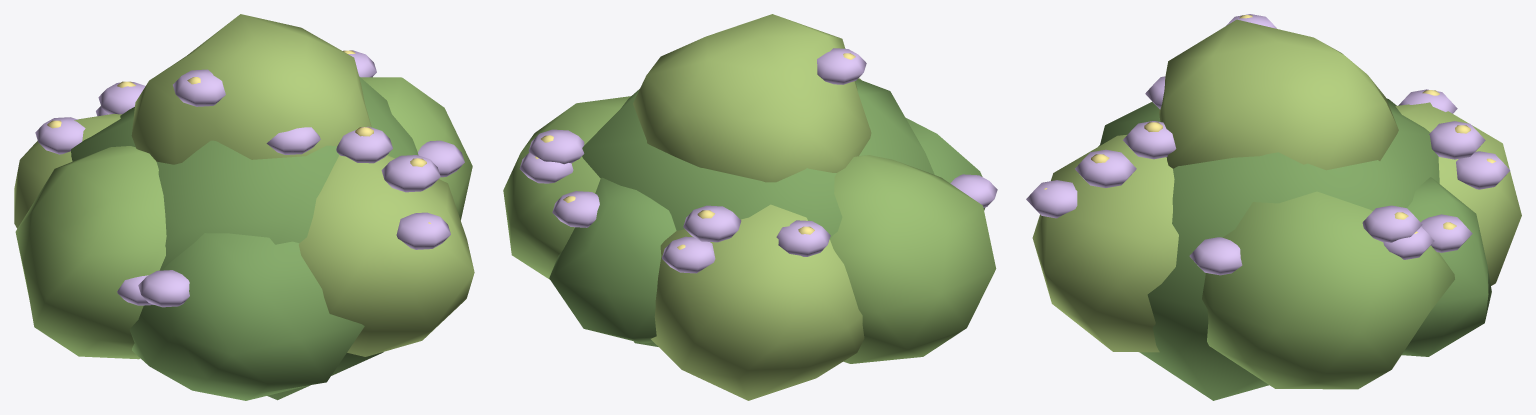
Rendered from Bush_Flowers.gltf.
The picture shows the model from 3 angles, left to right: view 1: azimuth 30°, elevation 25°; view 2: azimuth 150°, elevation 25°; view 3: azimuth 270°, elevation 25°; orthographic projection. The views are drawn at different scales.
Parts seen in each view (by area): view 1: Bush_Flowers; view 2: Bush_Flowers; view 3: Bush_Flowers.
Boxes of the visible parts, x1,y1,x2,y2 form: Bush_Flowers: (14, 14, 474, 400); Bush_Flowers: (503, 14, 997, 400); Bush_Flowers: (1026, 14, 1521, 400).
Size of the model in its own units: 1.67 by 1.17 by 1.59.
